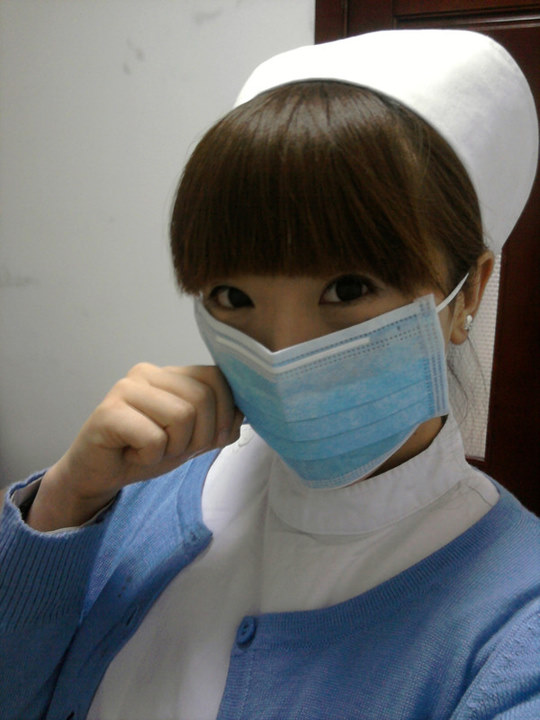face_mask: (197, 240, 443, 487)
